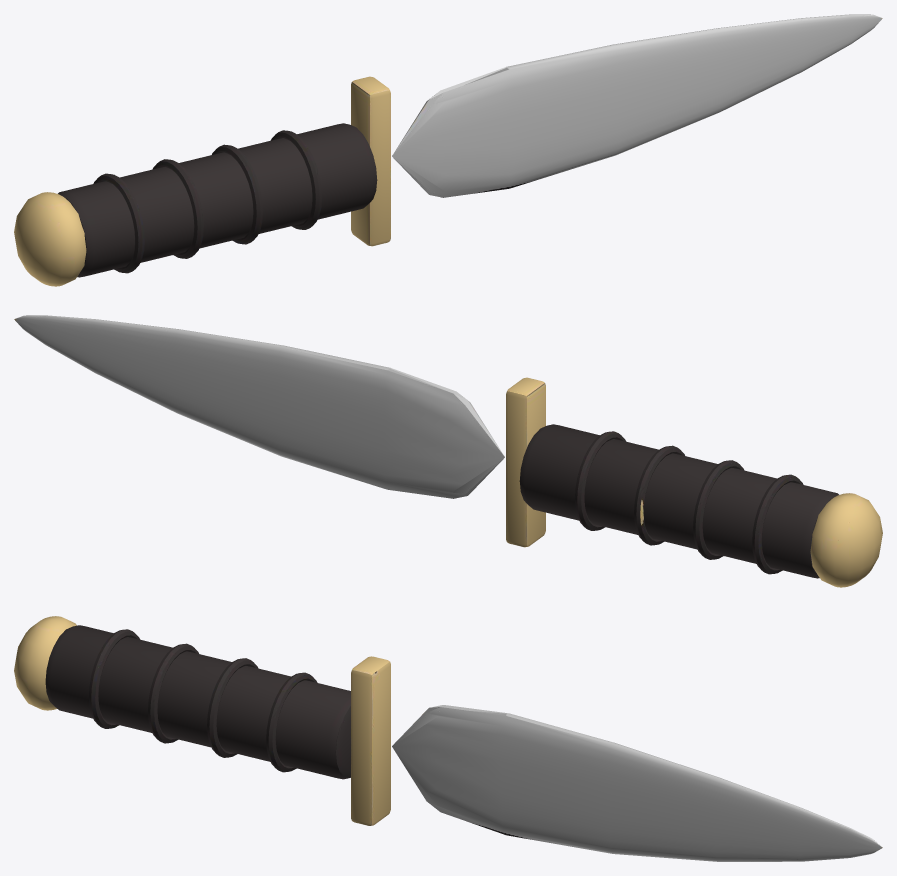
The model's file is knife.glb.
The picture shows the model from 3 angles, top to bottom: view 1: azimuth 30°, elevation 25°; view 2: azimuth 150°, elevation 25°; view 3: azimuth 330°, elevation 25°; orthographic projection.
Visible parts, largest first — view 1: blade, grip, pommel, guard, grip_ring2, grip_ring3, grip_ring1, grip_ring0; view 2: blade, grip, pommel, guard, grip_ring2, grip_ring3, grip_ring1, grip_ring0; view 3: blade, grip, guard, pommel, grip_ring0, grip_ring1, grip_ring3, grip_ring2.
Part boxes in pixels (box(x1,y1,x2,y2)): blade: box(392, 14, 882, 197); grip: box(58, 123, 377, 277); pommel: box(14, 192, 86, 286); guard: box(351, 76, 390, 246); grip_ring2: box(152, 159, 203, 258); grip_ring3: box(93, 173, 144, 273); grip_ring1: box(212, 144, 262, 244); grip_ring0: box(271, 130, 321, 229); blade: box(14, 315, 504, 498); grip: box(519, 424, 838, 578); pommel: box(810, 493, 882, 587); guard: box(506, 377, 545, 547); grip_ring2: box(693, 460, 744, 559); grip_ring3: box(752, 474, 803, 574); grip_ring1: box(634, 445, 684, 545); grip_ring0: box(575, 431, 625, 530); blade: box(392, 705, 882, 861); grip: box(45, 625, 350, 779); guard: box(351, 656, 390, 825); pommel: box(14, 616, 76, 710); grip_ring0: box(266, 672, 317, 772); grip_ring1: box(207, 658, 258, 757); grip_ring3: box(89, 629, 139, 728); grip_ring2: box(148, 643, 198, 743).
Bounding box in the file's own units: 0.2912 × 0.05 × 0.03.
1 material, 1 textured.
